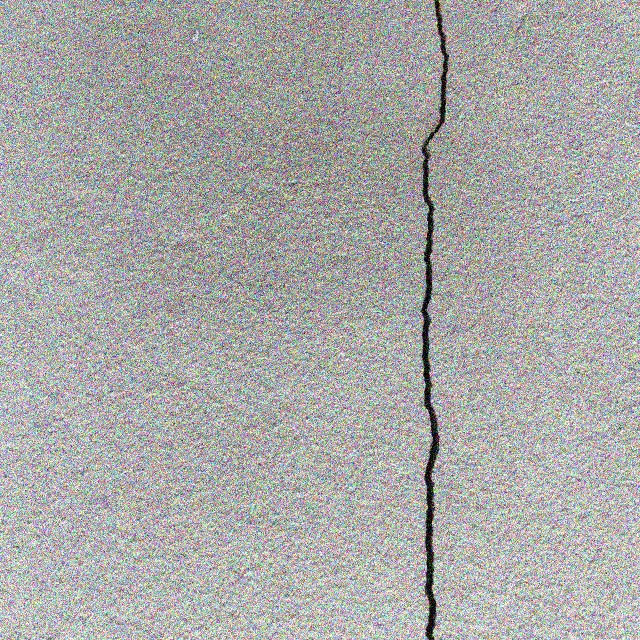SurfaceCrack: (365, 0, 501, 639)
